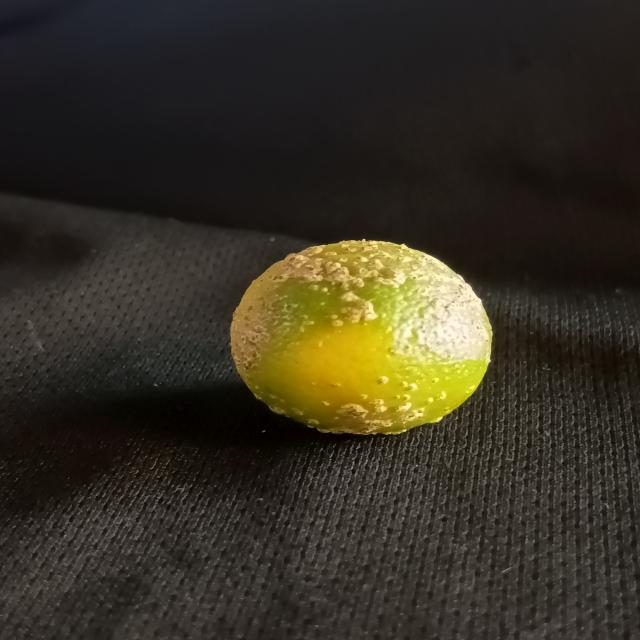scab: (229, 243, 506, 442)
